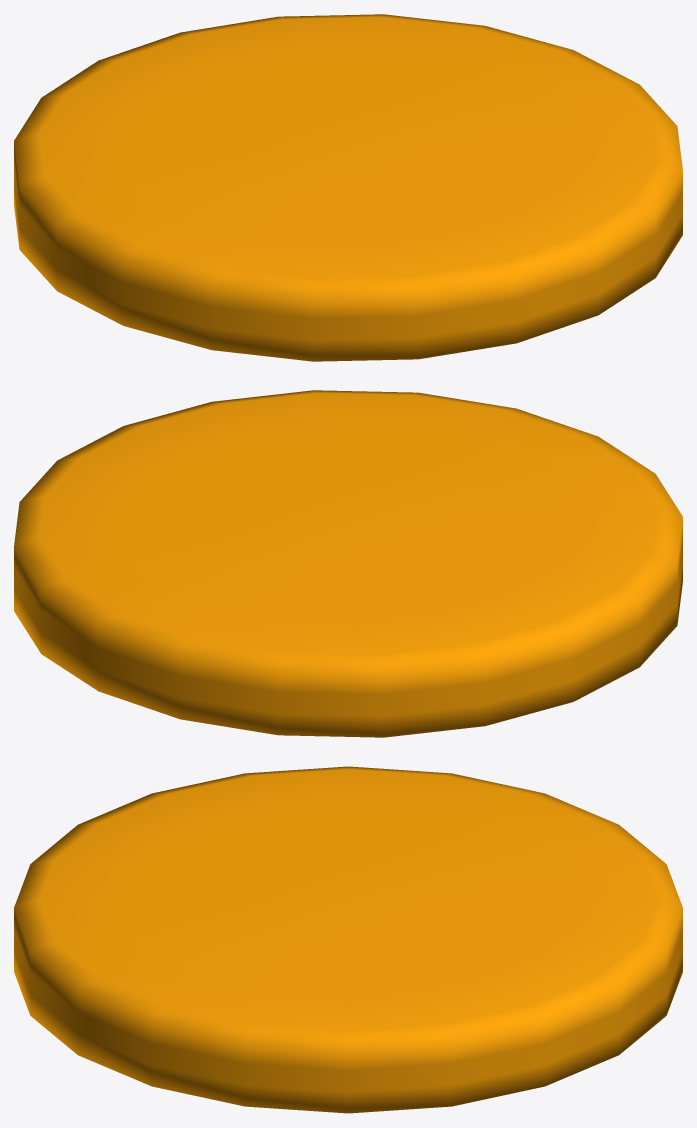
The model's file is BottomBun.fbx.
3 renders of one model, top to bottom at view 1: azimuth 30°, elevation 25°; view 2: azimuth 150°, elevation 25°; view 3: azimuth 270°, elevation 25°, orthographic.
Visible parts, largest first — view 1: pCylinder1; view 2: pCylinder1; view 3: pCylinder1.
Part boxes in pixels (x1=…): pCylinder1: x1=14, y1=14, x2=682, y2=361; pCylinder1: x1=14, y1=390, x2=682, y2=737; pCylinder1: x1=14, y1=766, x2=682, y2=1113.
Bounding box in the file's own units: 13.2 × 1.9 × 13.2.
